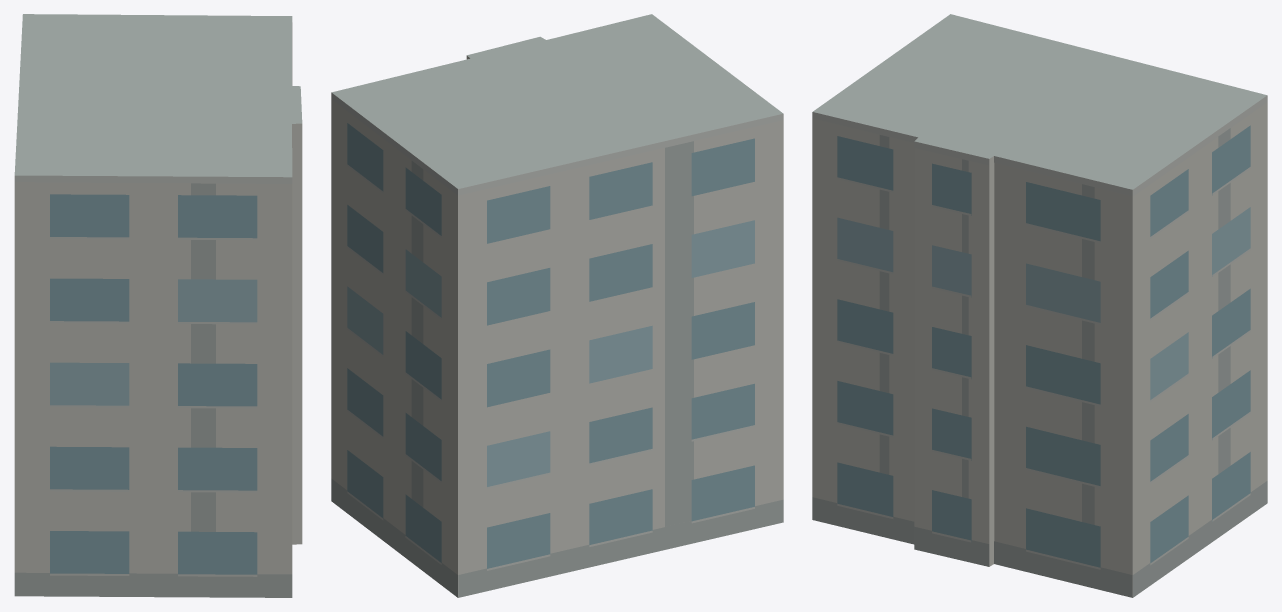
File: survey-upis-32889358.glb
3 renders of one model, left to right at view 1: azimuth 30°, elevation 25°; view 2: azimuth 150°, elevation 25°; view 3: azimuth 270°, elevation 25°, orthographic. The views are drawn at different scales.
Visible parts, largest first — view 1: survey-upis-32889358.tmp; view 2: survey-upis-32889358.tmp; view 3: survey-upis-32889358.tmp.
Boxes of the visible parts, x1,y1,x2,y2 form: survey-upis-32889358.tmp: (14,14,302,597); survey-upis-32889358.tmp: (331,14,783,597); survey-upis-32889358.tmp: (812,14,1267,597).
Size of the model in its own units: 13.82 by 14.95 by 15.12.
